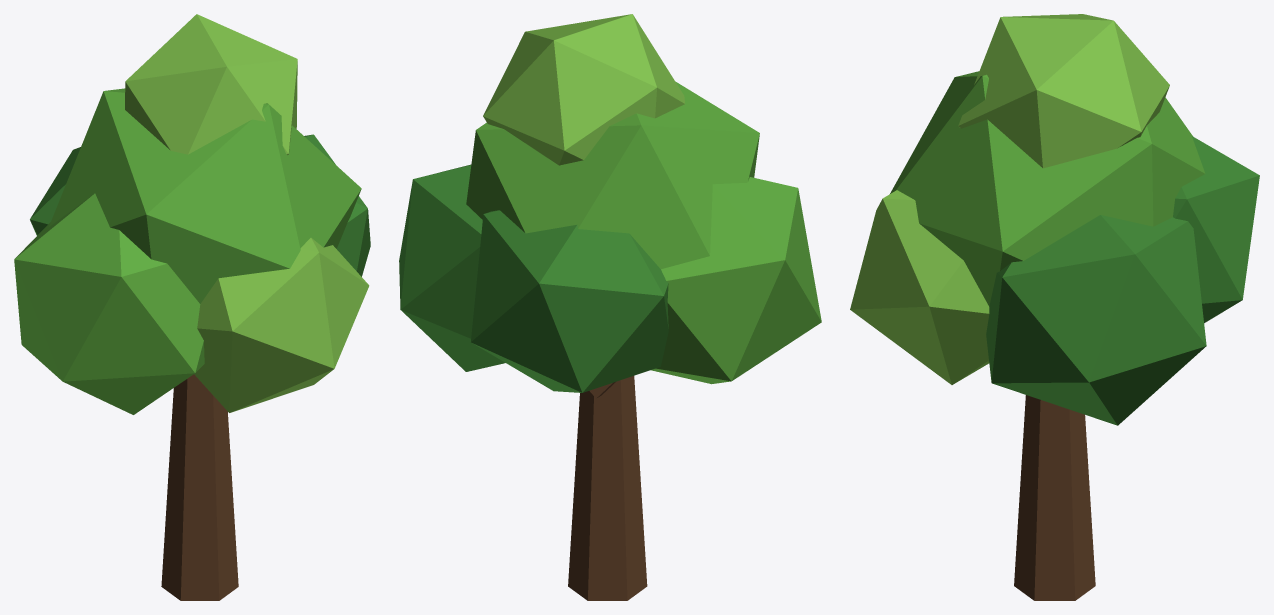
File: TreeOak.glb
3 views of the same model, side by side, from view 1: azimuth 30°, elevation 25°; view 2: azimuth 150°, elevation 25°; view 3: azimuth 270°, elevation 25° (orthographic). The views are drawn at different scales.
Visible parts, largest first — view 1: TreeOak; view 2: TreeOak; view 3: TreeOak.
Part boxes in pixels (x1,y1,x2,y2): TreeOak: [14, 14, 370, 600]; TreeOak: [399, 14, 821, 600]; TreeOak: [850, 14, 1259, 600].
Size of the model in its own units: 2.41 by 3.43 by 2.21.
